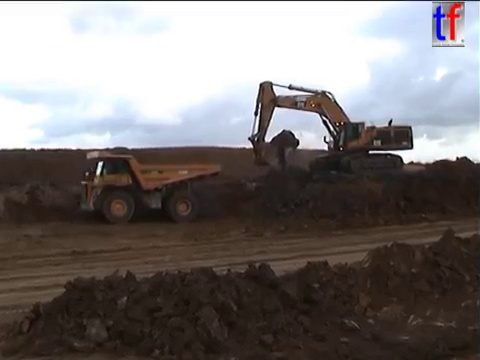excavator: (246, 79, 416, 180)
truck: (74, 149, 222, 224)
